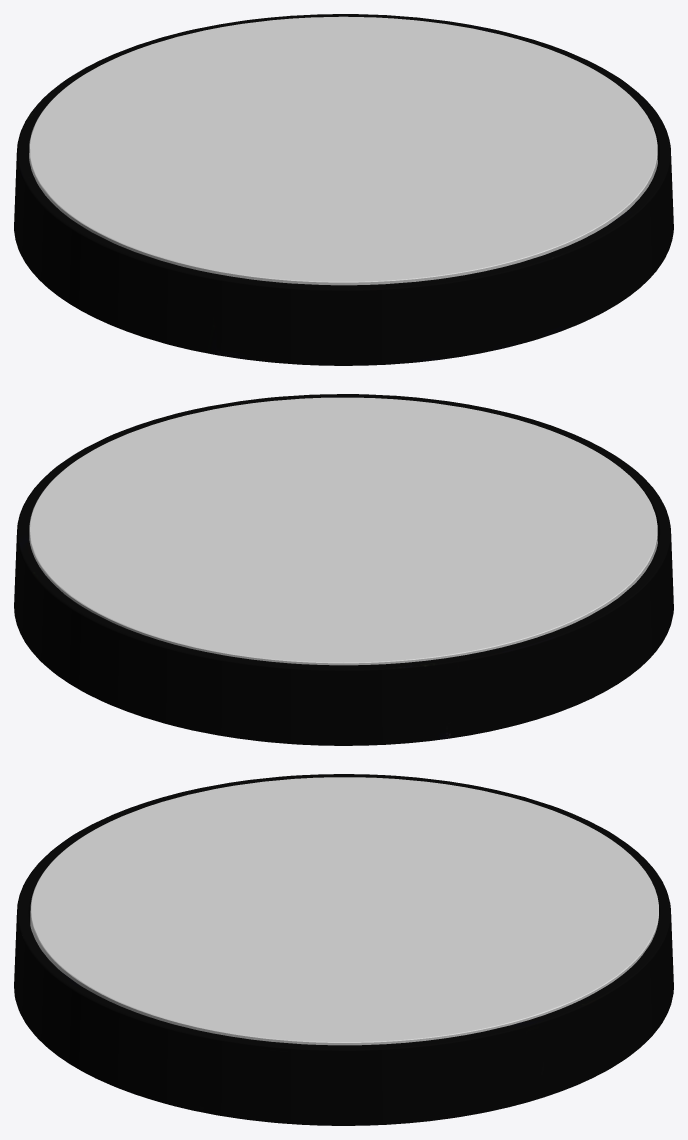
File: tallsparv_zegar_scienny_40617086.glb
3 renders of one model, top to bottom at view 1: azimuth 30°, elevation 25°; view 2: azimuth 150°, elevation 25°; view 3: azimuth 270°, elevation 25°, orthographic.
Parts seen in each view (by area): view 1: tallsparv_zegar_scienny_40617086; view 2: tallsparv_zegar_scienny_40617086; view 3: tallsparv_zegar_scienny_40617086.
Boxes of the visible parts, box(x1,y1,x2,y2) form: tallsparv_zegar_scienny_40617086: box(14, 14, 673, 365); tallsparv_zegar_scienny_40617086: box(14, 394, 673, 745); tallsparv_zegar_scienny_40617086: box(14, 774, 673, 1125).
Size of the model in its own units: 0.2799 by 0.036 by 0.2799.
Materials: 2 (2 with a texture image).
